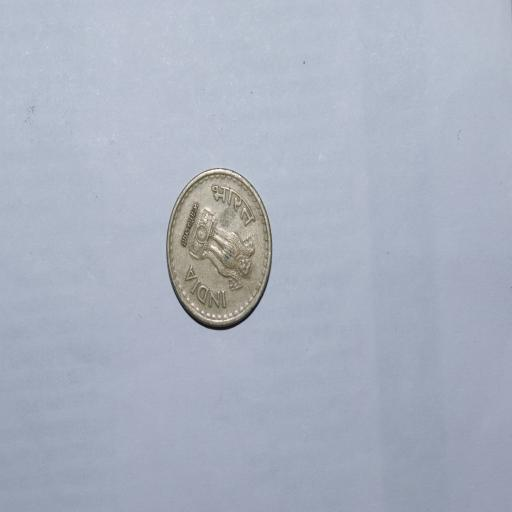rupee5: (165, 164, 276, 331)
